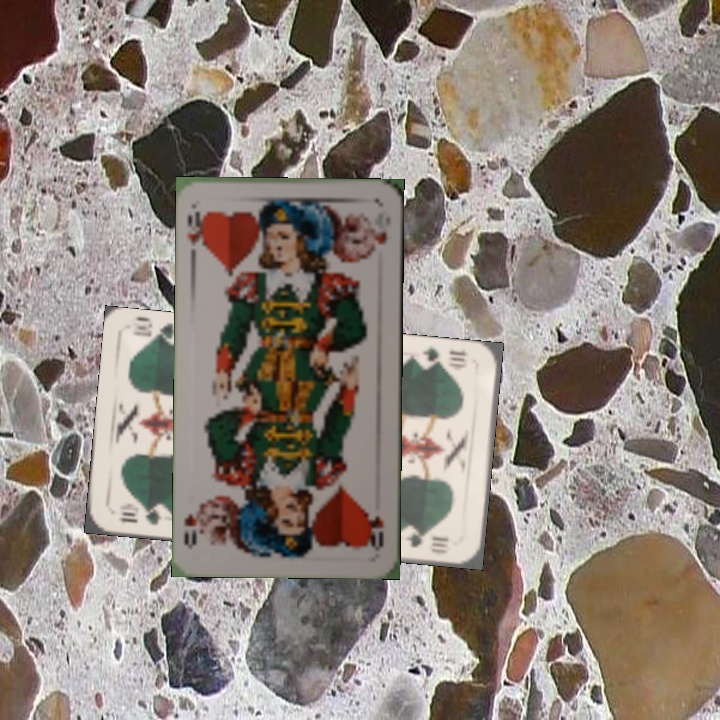G10: (419, 344, 470, 373), (114, 503, 164, 528)
HO: (183, 208, 209, 253), (365, 507, 387, 552)
